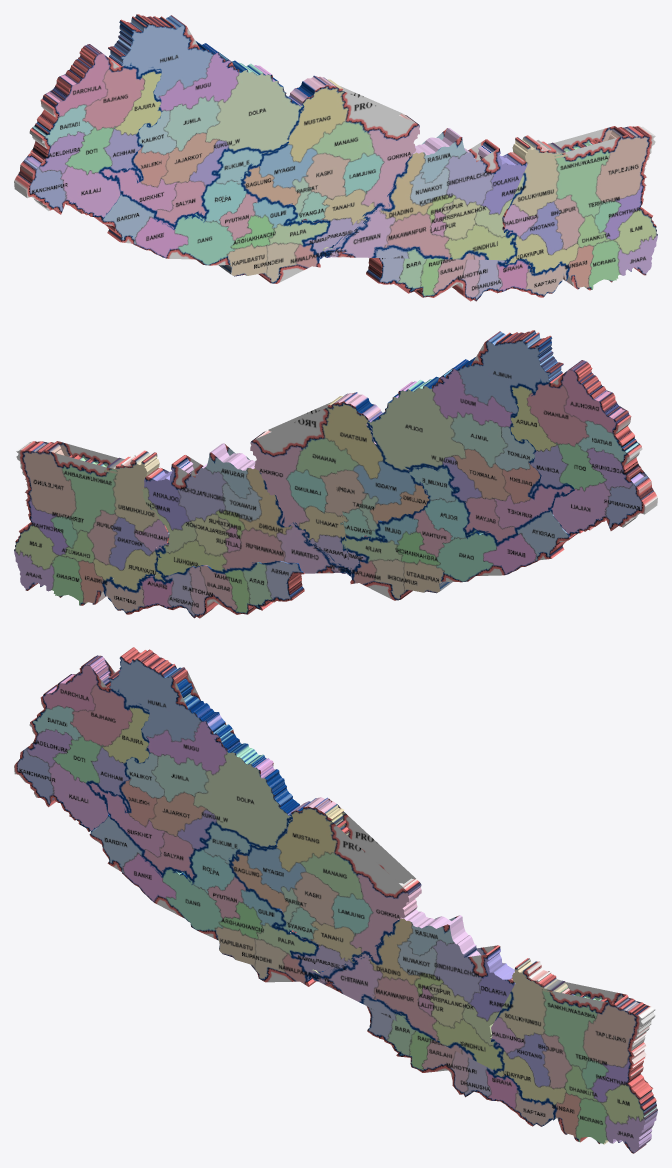
File: NEPALtEXTURED.fbx
The picture shows the model from 3 angles, top to bottom: view 1: azimuth 30°, elevation 25°; view 2: azimuth 150°, elevation 25°; view 3: azimuth 330°, elevation 25°; orthographic projection.
Visible parts, largest first — view 1: Plane.007, Plane.011, Plane.010, Plane.013, Plane.008, Plane.009, Plane.012; view 2: Plane.007, Plane.011, Plane.008, Plane.013, Plane.010, Plane.009, Plane.012; view 3: Plane.007, Plane.011, Plane.010, Plane.008, Plane.013, Plane.009, Plane.012.
Boxes of the visible parts, x1=… form: Plane.007: x1=108, y1=14, x2=304, y2=228; Plane.011: x1=502, y1=126, x2=657, y2=290; Plane.010: x1=323, y1=128, x2=527, y2=260; Plane.013: x1=14, y1=44, x2=161, y2=219; Plane.008: x1=262, y1=75, x2=419, y2=258; Plane.009: x1=94, y1=154, x2=330, y2=283; Plane.012: x1=366, y1=258, x2=563, y2=301; Plane.007: x1=367, y1=330, x2=574, y2=535; Plane.011: x1=14, y1=441, x2=169, y2=605; Plane.008: x1=250, y1=392, x2=429, y2=576; Plane.013: x1=510, y1=360, x2=657, y2=536; Plane.010: x1=142, y1=443, x2=346, y2=575; Plane.009: x1=350, y1=465, x2=577, y2=600; Plane.012: x1=105, y1=560, x2=304, y2=618; Plane.007: x1=108, y1=647, x2=300, y2=883; Plane.011: x1=491, y1=958, x2=657, y2=1153; Plane.010: x1=311, y1=909, x2=515, y2=1069; Plane.008: x1=250, y1=797, x2=421, y2=978; Plane.013: x1=14, y1=655, x2=149, y2=831; Plane.009: x1=89, y1=814, x2=319, y2=986; Plane.012: x1=366, y1=1006, x2=552, y2=1126.
Bounding box in the file's own units: 436 × 247 × 16.24.
